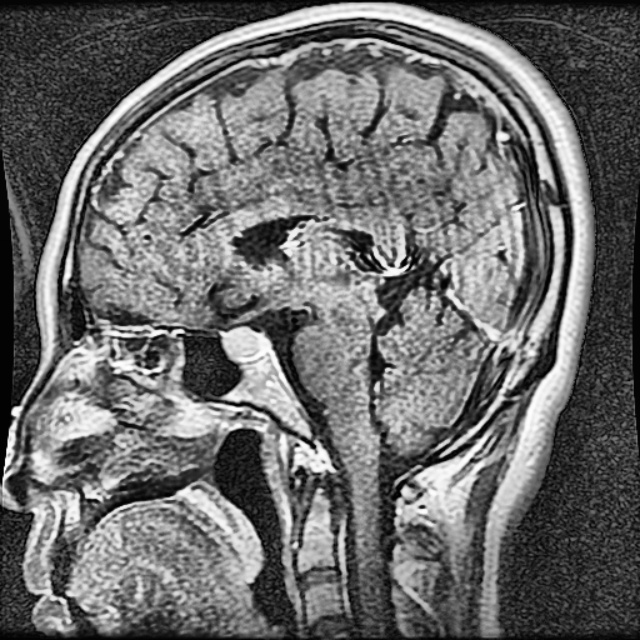Pituitary: (222, 325, 265, 359)
